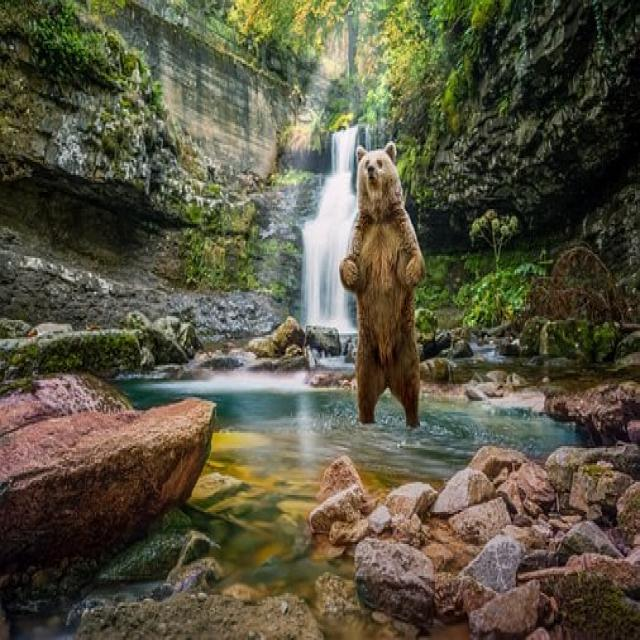Bear: (339, 149, 425, 431)
